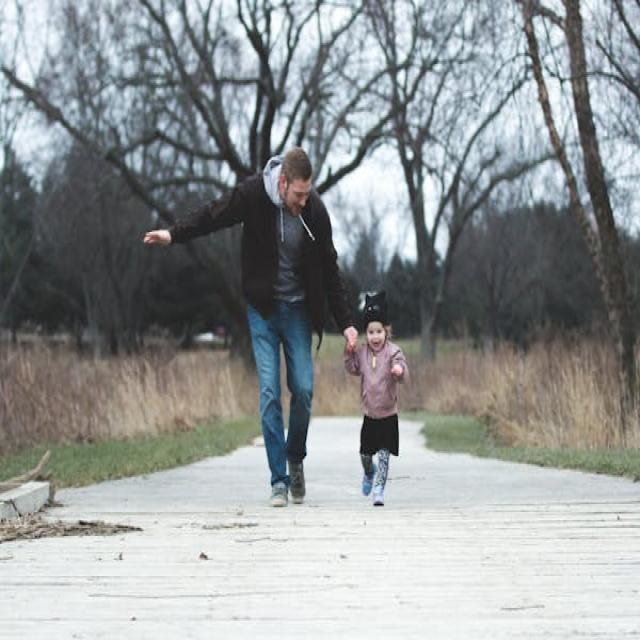Real human 2: (152, 147, 414, 507)
